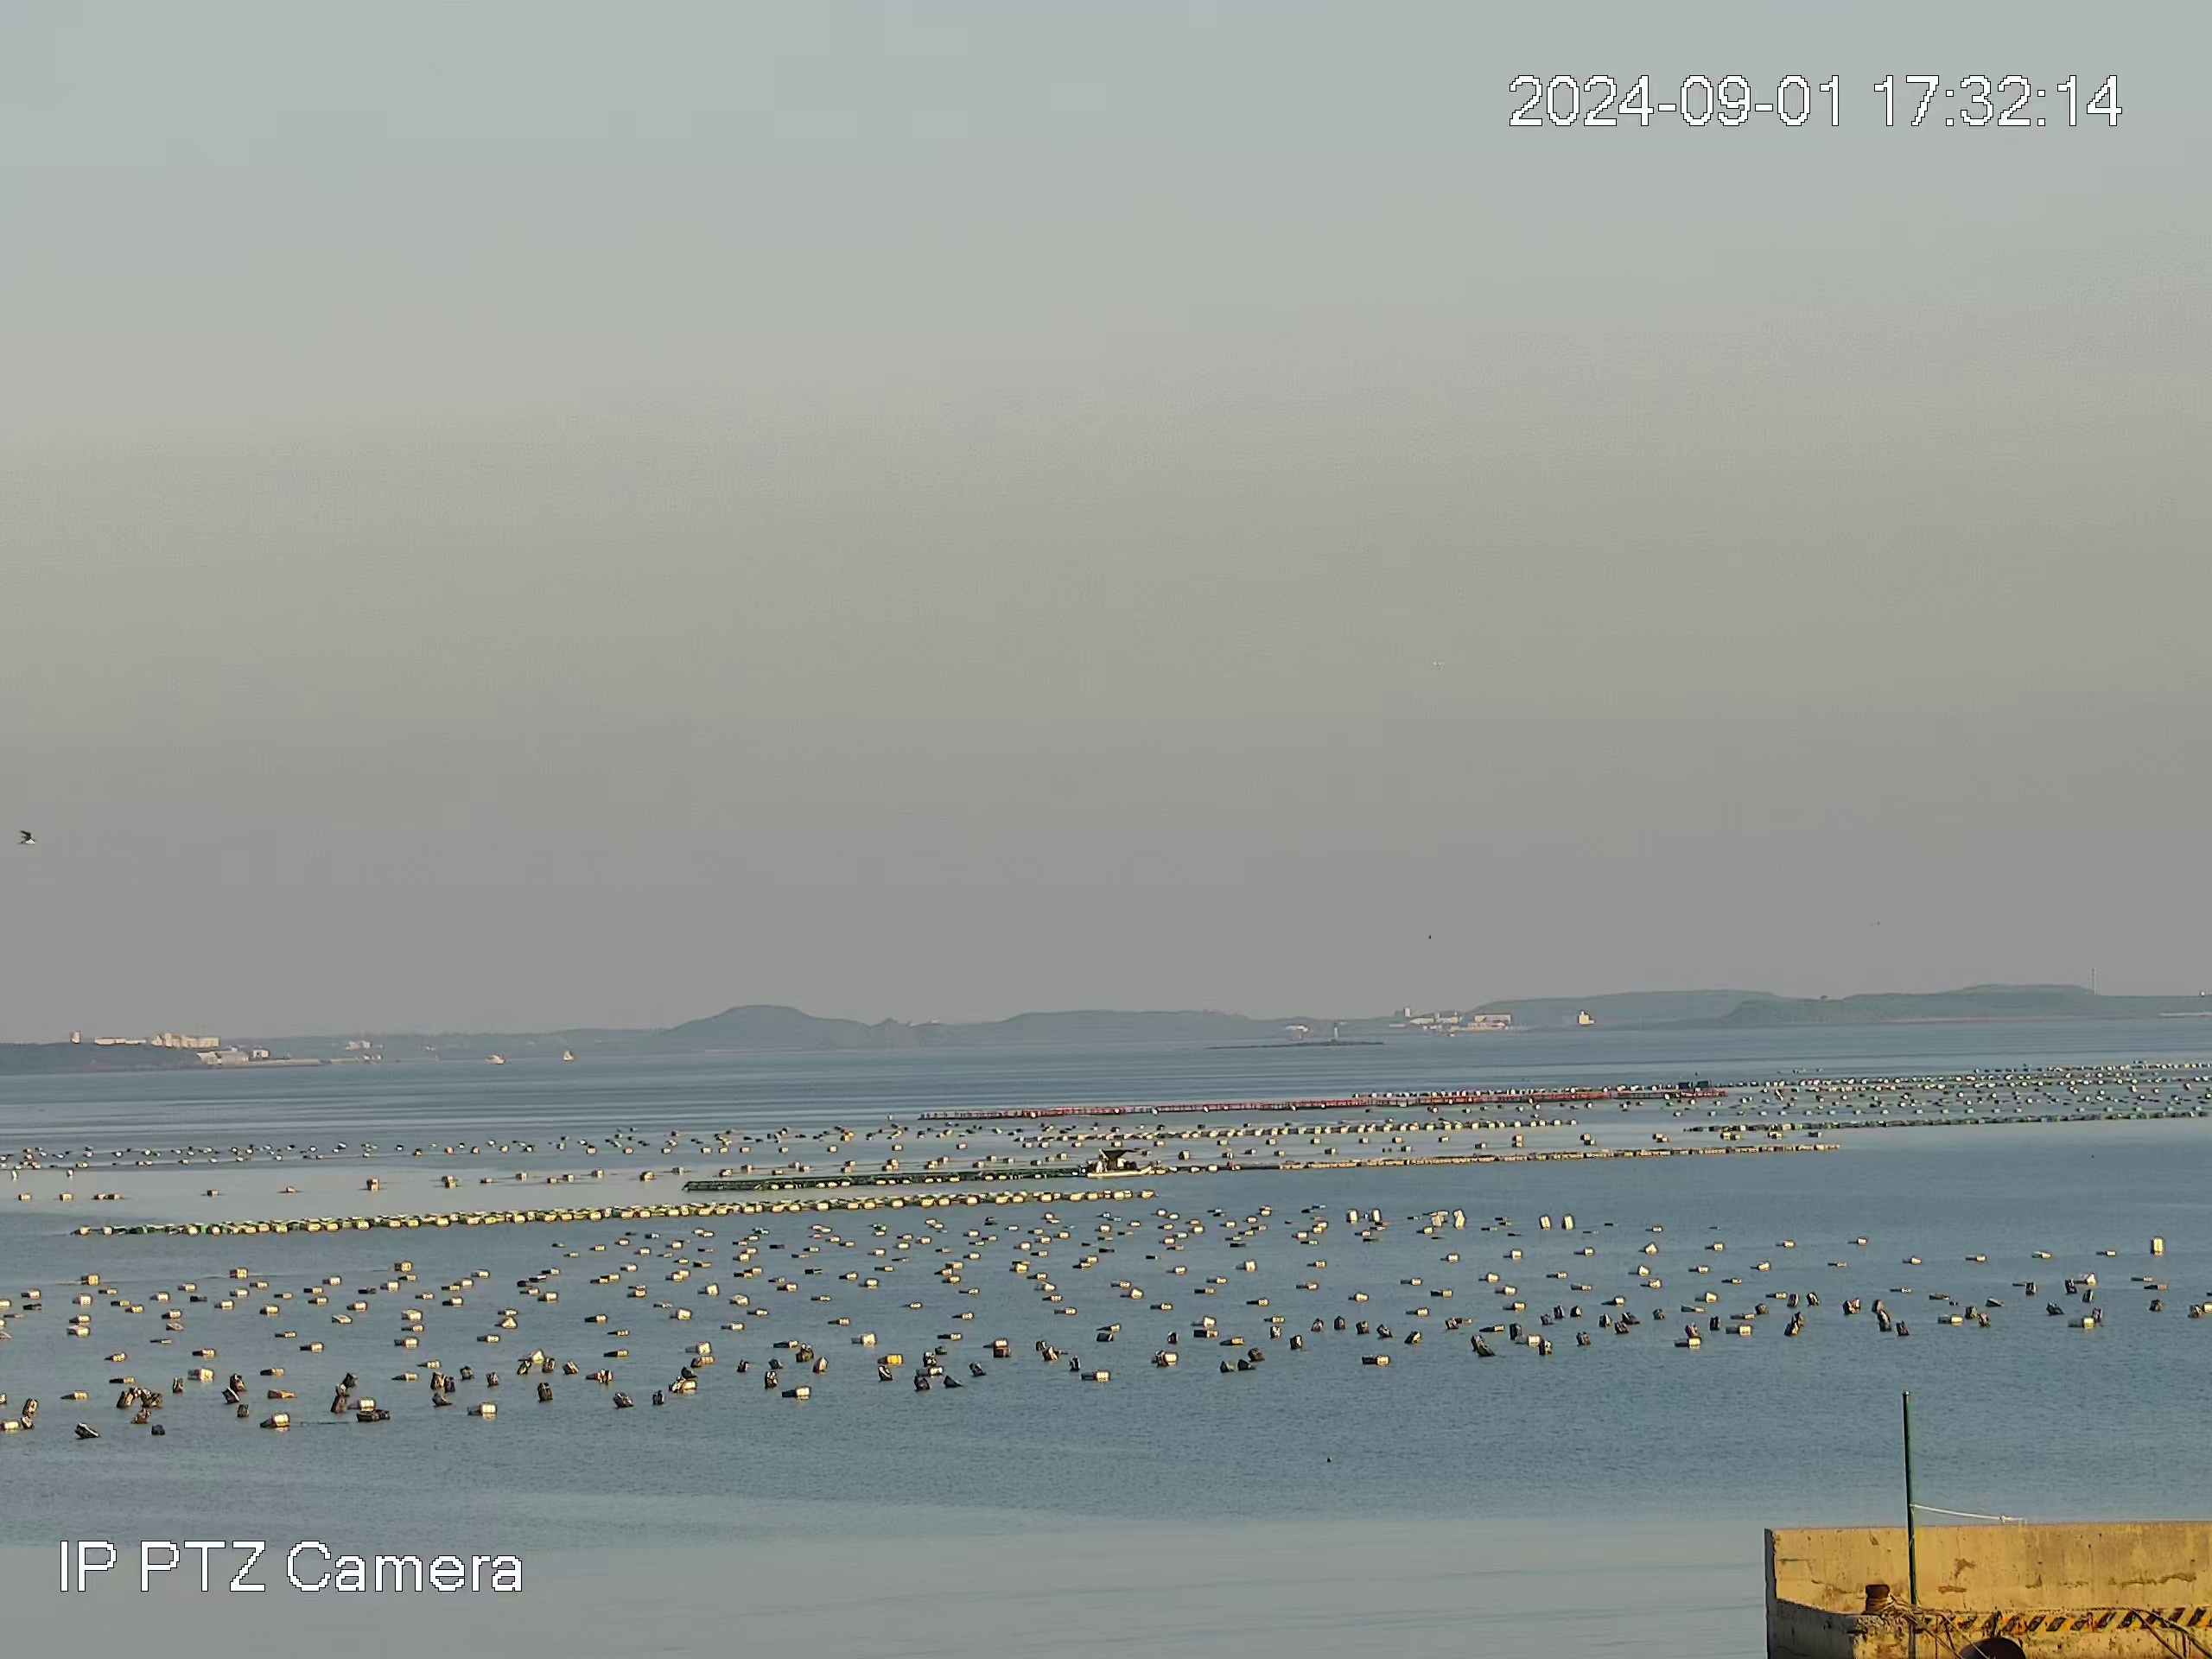boat: (1087, 1145, 1153, 1182)
